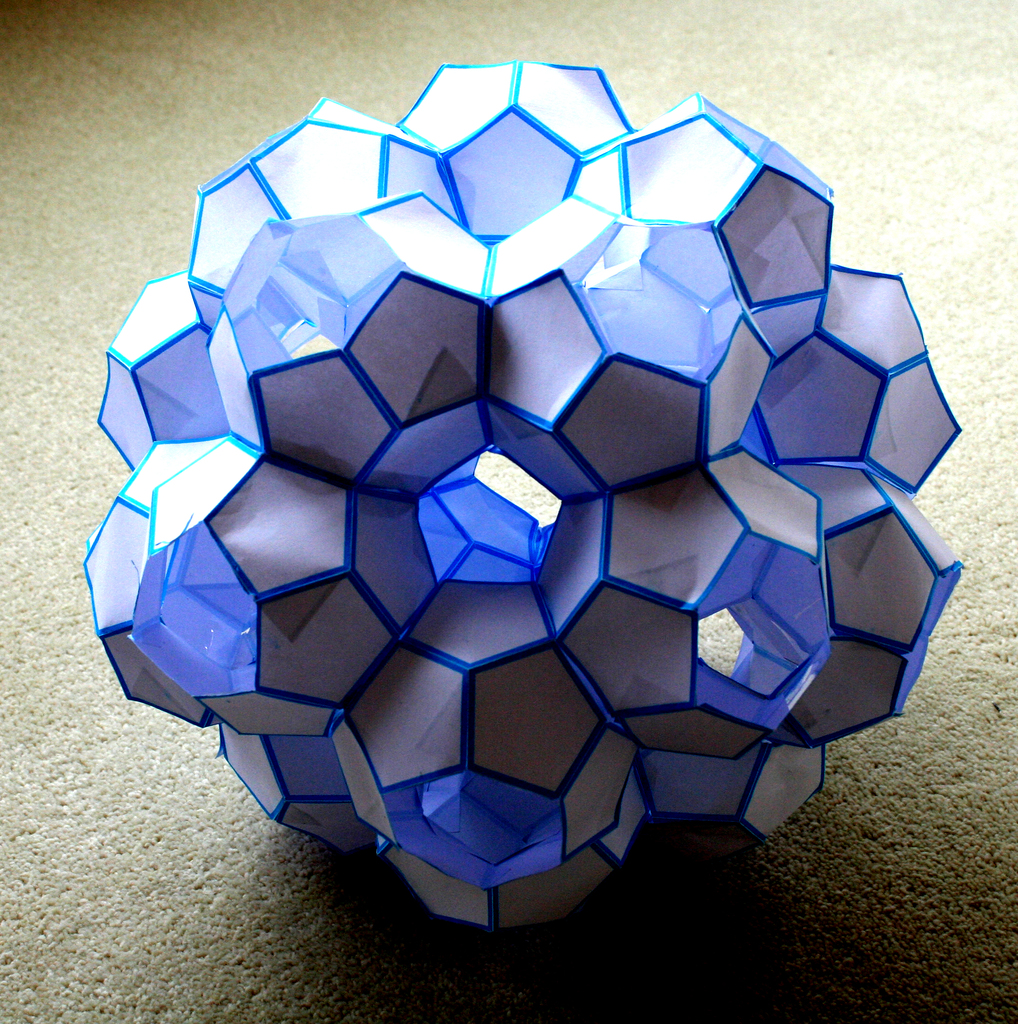Ball: (83, 54, 967, 932)
